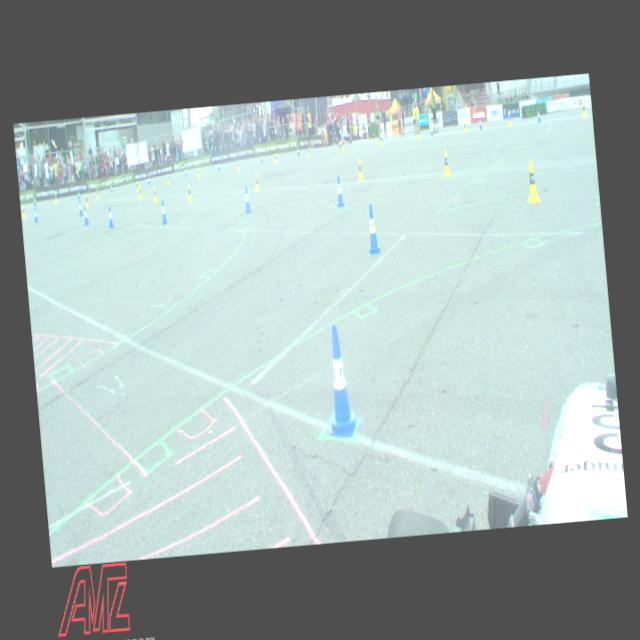blue_cone: (320, 324, 358, 439), (365, 204, 382, 253), (334, 176, 346, 207), (243, 186, 251, 213), (160, 200, 168, 223), (106, 205, 114, 228), (82, 205, 90, 225), (78, 199, 83, 216), (33, 208, 38, 222), (536, 108, 541, 122), (76, 186, 81, 199), (429, 124, 434, 136), (478, 118, 482, 130), (216, 160, 220, 171), (109, 181, 113, 192), (338, 137, 341, 148), (296, 145, 299, 156), (259, 153, 262, 163), (184, 166, 187, 176), (147, 174, 150, 184), (33, 197, 36, 206), (380, 130, 382, 142)
yellow_cone: (525, 158, 539, 202), (442, 148, 452, 176), (252, 172, 260, 192), (356, 160, 364, 180), (186, 182, 192, 202), (152, 186, 158, 202), (581, 100, 586, 116), (21, 204, 26, 219), (134, 180, 139, 192), (138, 184, 142, 198), (507, 112, 511, 126), (416, 126, 420, 140), (54, 190, 58, 204), (378, 131, 382, 145), (462, 120, 466, 132), (340, 140, 344, 152), (236, 160, 240, 171), (96, 188, 100, 199), (85, 194, 88, 206), (274, 152, 277, 164), (307, 146, 310, 157), (197, 167, 200, 178), (166, 173, 169, 184)
